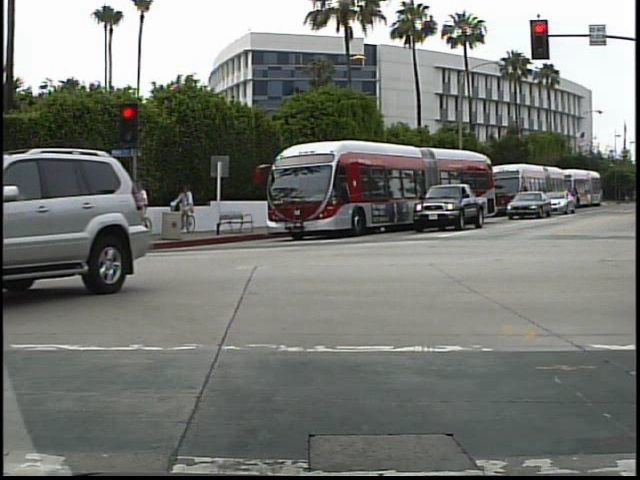person: (176, 183, 201, 236)
